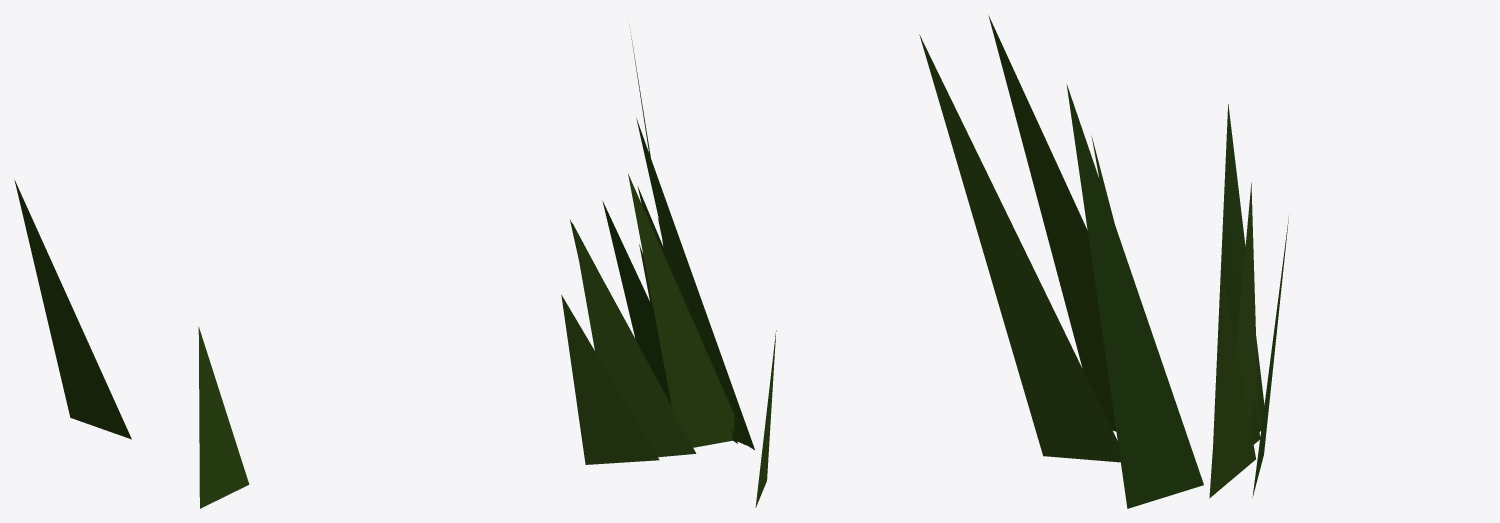
File: GrassTuft2.glb
3 views of the same model, side by side, from view 1: azimuth 30°, elevation 25°; view 2: azimuth 150°, elevation 25°; view 3: azimuth 270°, elevation 25° (orthographic). The views are drawn at different scales.
Parts seen in each view (by area): view 1: GrassTuft2; view 2: GrassTuft2; view 3: GrassTuft2.
Boxes of the visible parts, <box> form: GrassTuft2: <box>14,180,249,508</box>; GrassTuft2: <box>561,24,776,507</box>; GrassTuft2: <box>919,15,1289,508</box>.
Size of the model in its own units: 1.13 by 1.24 by 1.33.
